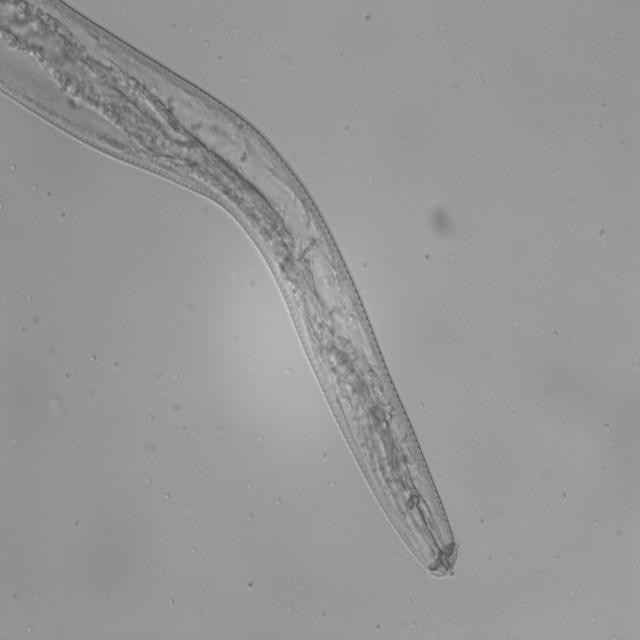Radopholus: (0, 0, 471, 590)
